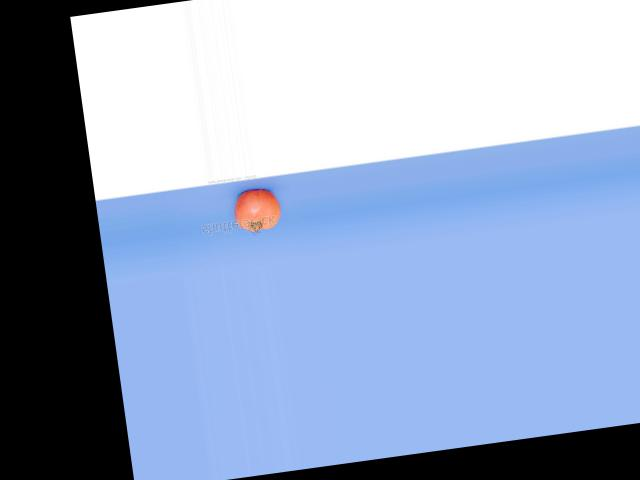tomato: (232, 186, 284, 233)
